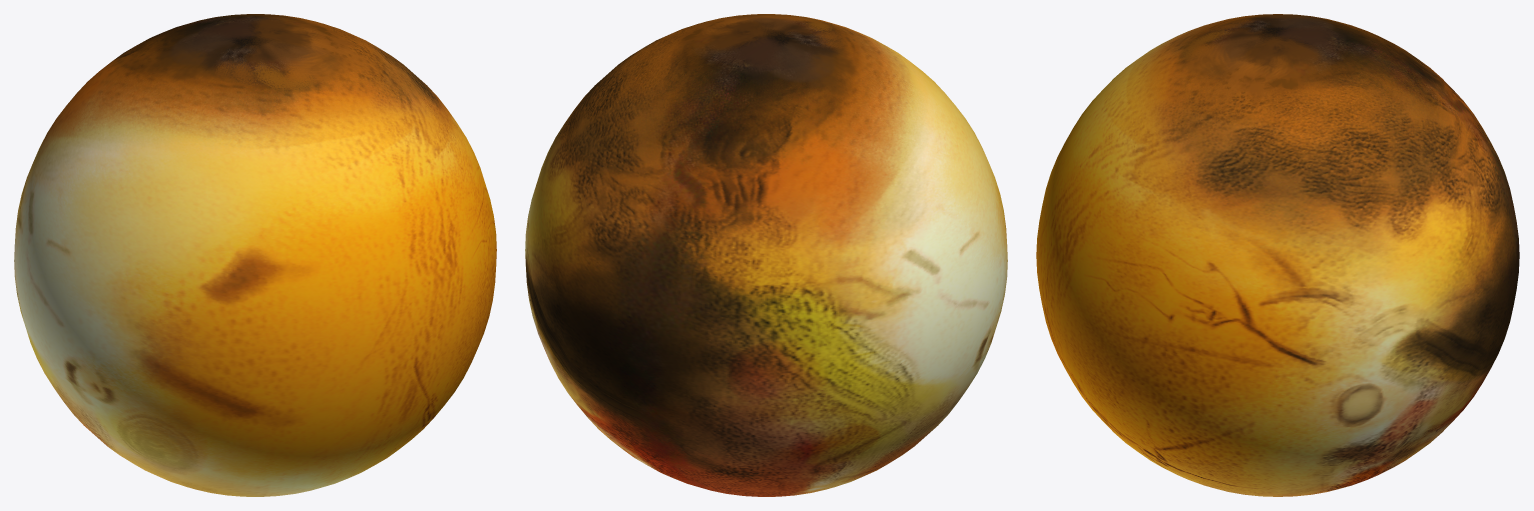
Rendered from randomplanet.obj.
3 renders of one model, left to right at view 1: azimuth 30°, elevation 25°; view 2: azimuth 150°, elevation 25°; view 3: azimuth 270°, elevation 25°, orthographic.
Visible parts, largest first — view 1: RT_3D_Planet_Model; view 2: RT_3D_Planet_Model; view 3: RT_3D_Planet_Model.
Boxes of the visible parts, bbox=[...] form: RT_3D_Planet_Model: bbox=[14, 14, 496, 496]; RT_3D_Planet_Model: bbox=[525, 14, 1007, 496]; RT_3D_Planet_Model: bbox=[1036, 14, 1519, 496].
Bounding box in the file's own units: 1000 × 1000 × 1000.
Materials: 1 (1 with a texture image).
